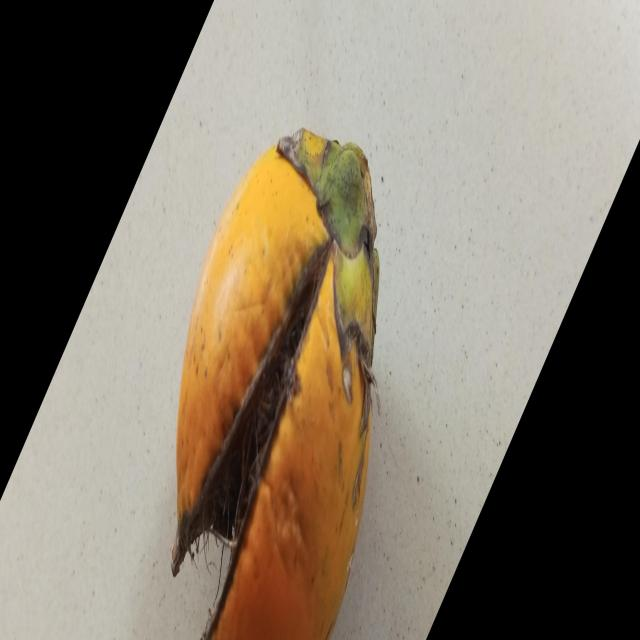damaged: (170, 130, 380, 640)
